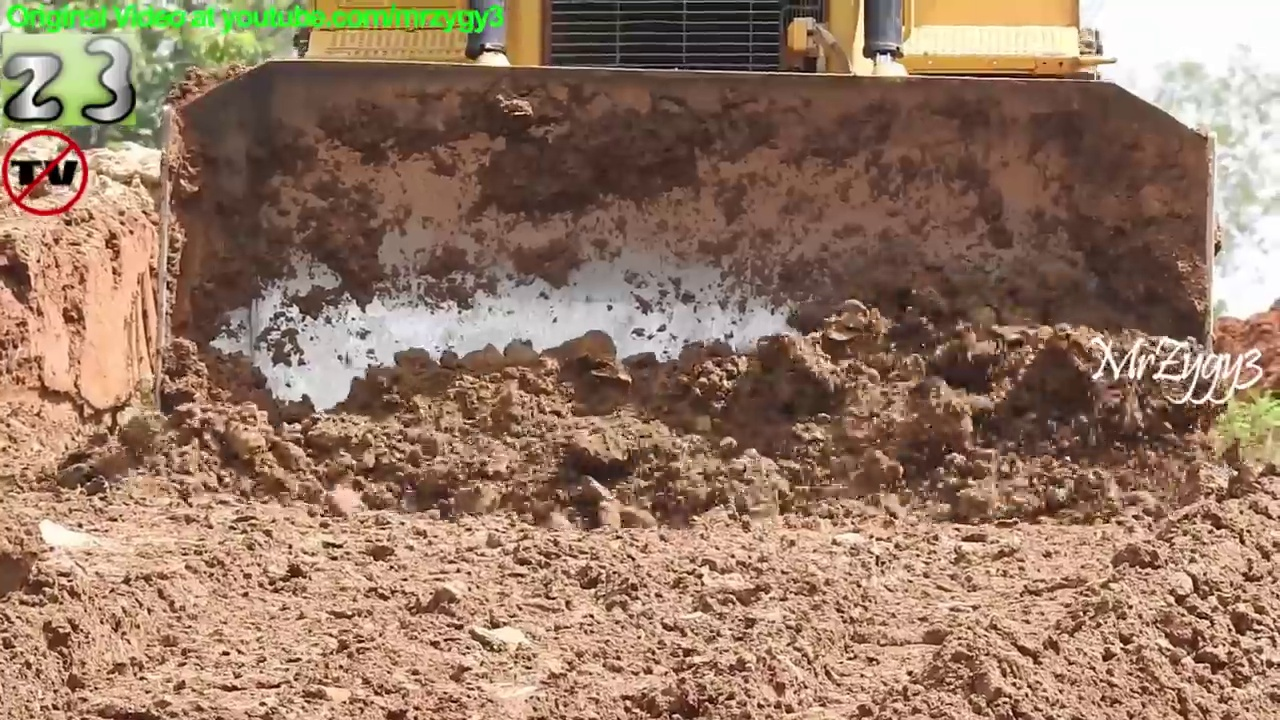bulldozer: (156, 6, 1248, 468)
